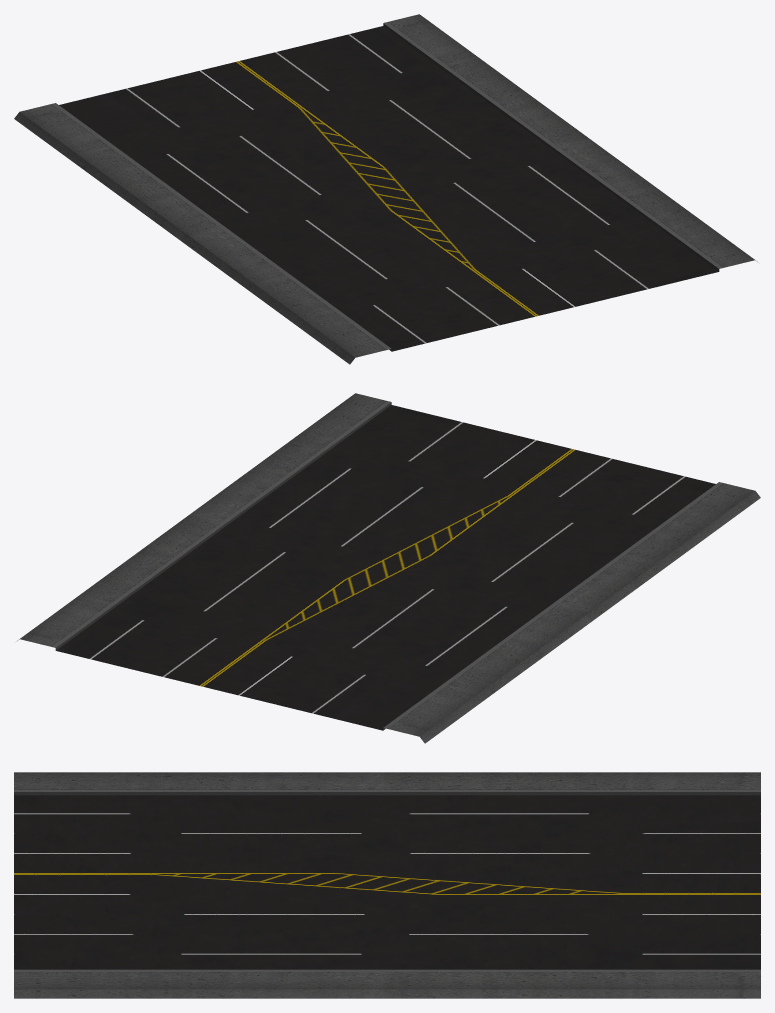
Rendered from RJs_Road 4+5 Basic Segment_2.fbx.
3 renders of one model, top to bottom at view 1: azimuth 30°, elevation 25°; view 2: azimuth 150°, elevation 25°; view 3: azimuth 270°, elevation 25°, orthographic. The views are drawn at different scales.
Visible parts, largest first — view 1: plane; view 2: plane; view 3: plane.
Part boxes in pixels (x1,y1,x2,y2): plane: (14, 14, 757, 364); plane: (17, 393, 760, 743); plane: (14, 772, 760, 998).
Size of the model in its own units: 4520 by 60.1 by 6400.
